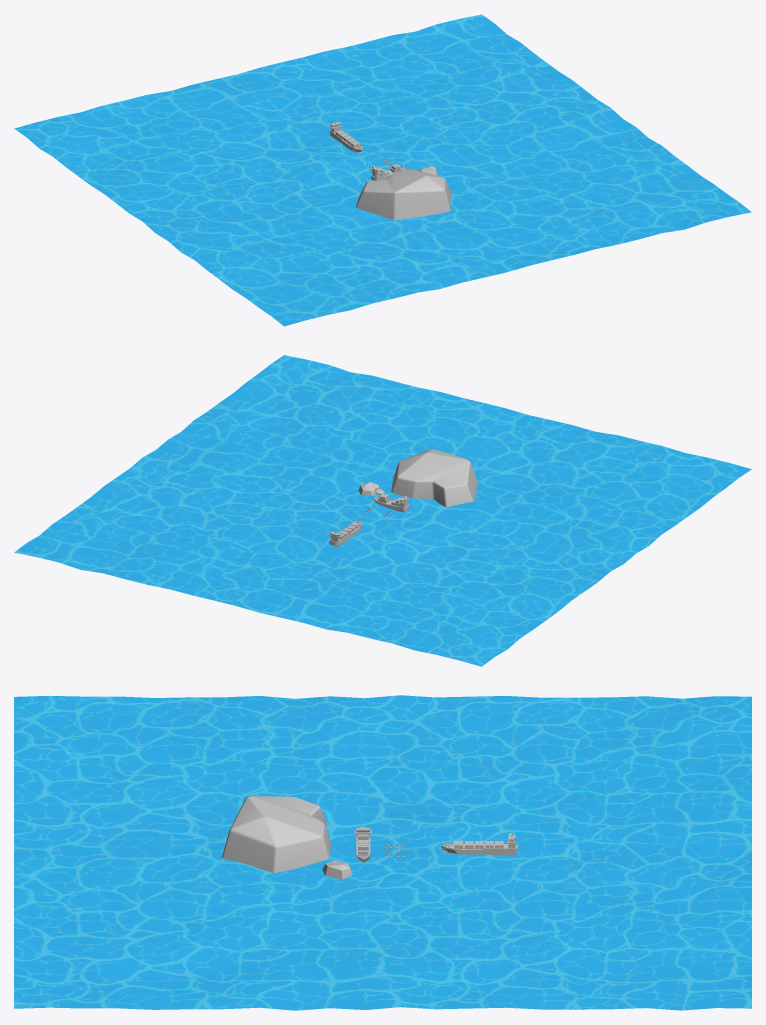
The model's file is changjing7_6.fbx.
The picture shows the model from 3 angles, top to bottom: view 1: azimuth 30°, elevation 25°; view 2: azimuth 150°, elevation 25°; view 3: azimuth 270°, elevation 25°; orthographic projection. The views are drawn at different scales.
Visible parts, largest first — view 1: changjing_7_6; view 2: changjing_7_6; view 3: changjing_7_6, DaHuoLun4.
Boxes of the visible parts, x1,y1,x2,y2 form: changjing_7_6: (14, 14, 751, 326); changjing_7_6: (14, 355, 751, 666); changjing_7_6: (14, 695, 751, 1010); DaHuoLun4: (441, 833, 517, 855).
Size of the model in its own units: 50226 by 3911 by 50226.
